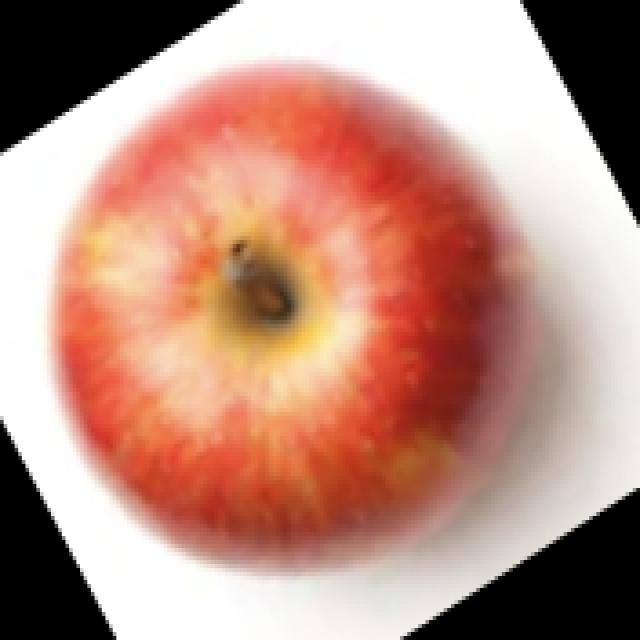Fresh Apple: (72, 70, 510, 550)
